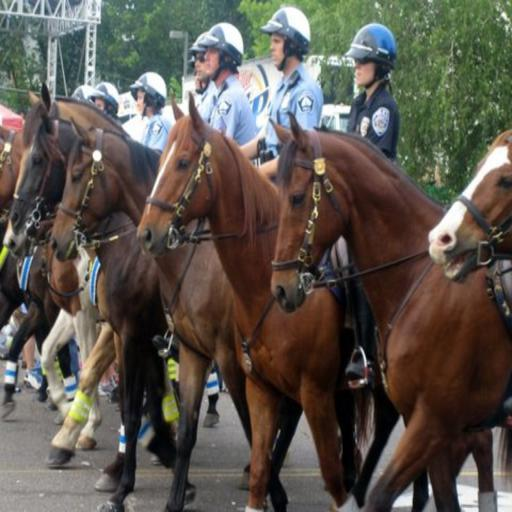horse: (0, 80, 511, 510)
